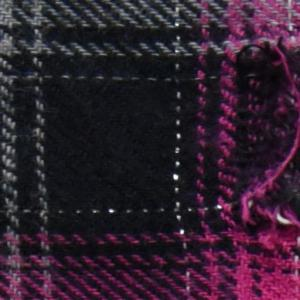Damage: (192, 34, 300, 252)
